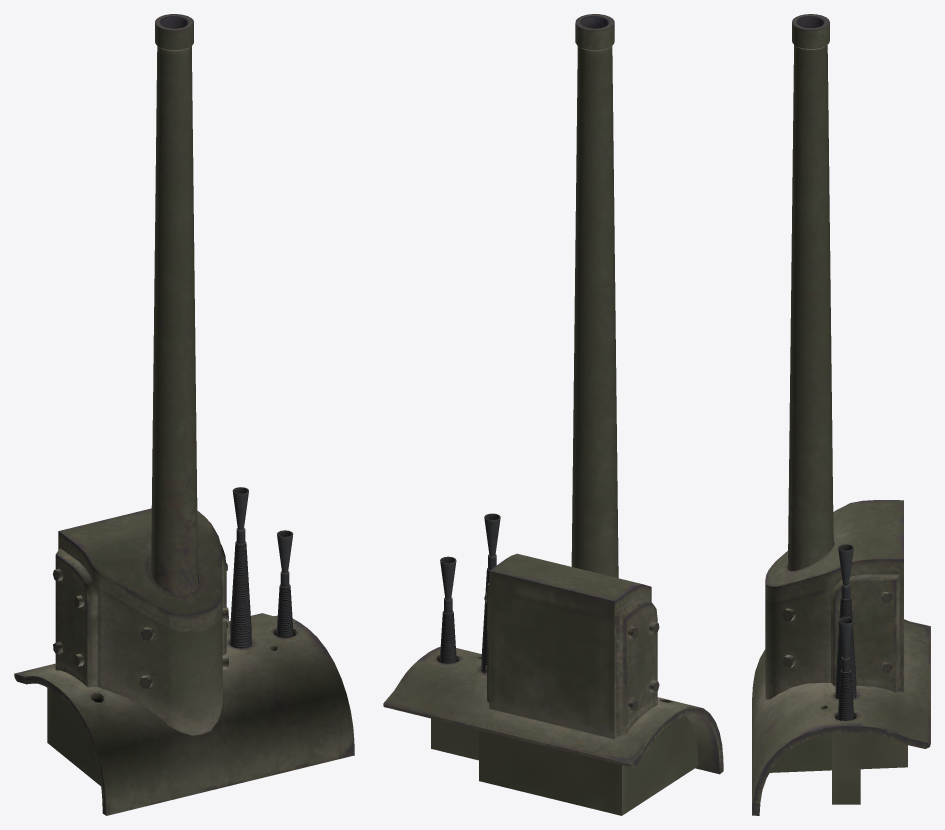
File: Gun_05.glb
3 renders of one model, left to right at view 1: azimuth 30°, elevation 25°; view 2: azimuth 150°, elevation 25°; view 3: azimuth 270°, elevation 25°, orthographic. The views are drawn at different scales.
Parts seen in each view (by area): view 1: set_0_group_0; view 2: set_0_group_0; view 3: set_0_group_0.
Boxes of the visible parts, x1,y1,x2,y2 form: set_0_group_0: (14,14,354,815); set_0_group_0: (383,14,723,815); set_0_group_0: (752,14,930,815).
Size of the model in its own units: 0.8135 by 2.34 by 0.5248.
1 material, 1 textured.
